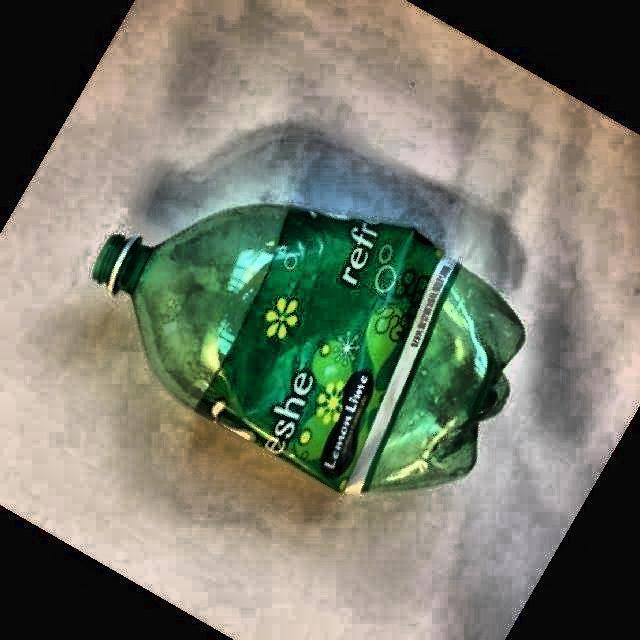plastic: (92, 205, 524, 491)
